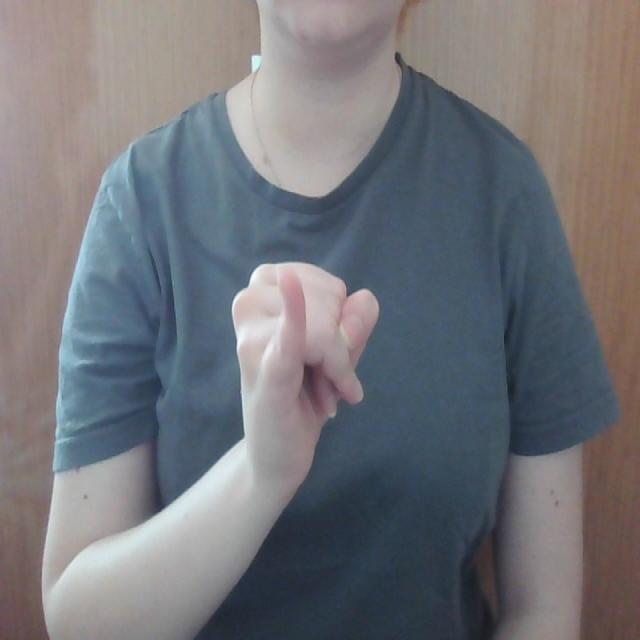kotu: (228, 236, 384, 438)
